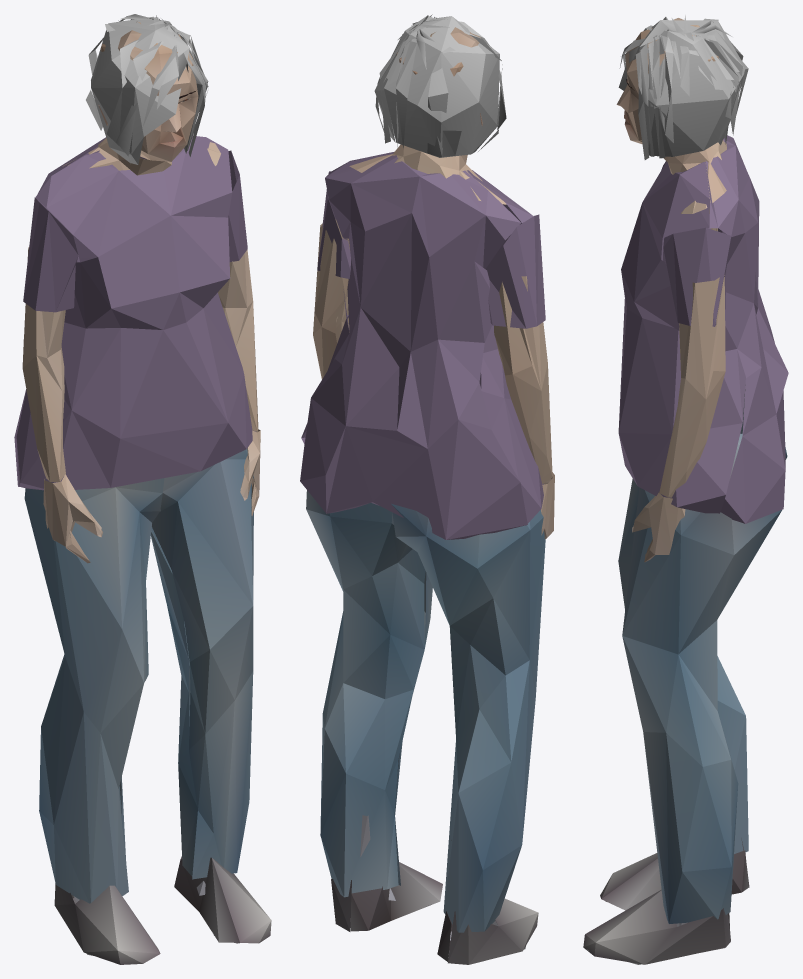
The model's file is person-8-far.glb.
3 views of the same model, side by side, from view 1: azimuth 30°, elevation 25°; view 2: azimuth 150°, elevation 25°; view 3: azimuth 270°, elevation 25° (orthographic).
Visible parts, largest first — view 1: person-8 far; view 2: person-8 far; view 3: person-8 far.
Part boxes in pixels (x1=…): person-8 far: x1=14, y1=14, x2=271, y2=964; person-8 far: x1=300, y1=14, x2=554, y2=964; person-8 far: x1=583, y1=15, x2=788, y2=964.
Bounding box in the file's own units: 0.4117 × 1.57 × 0.3233.
